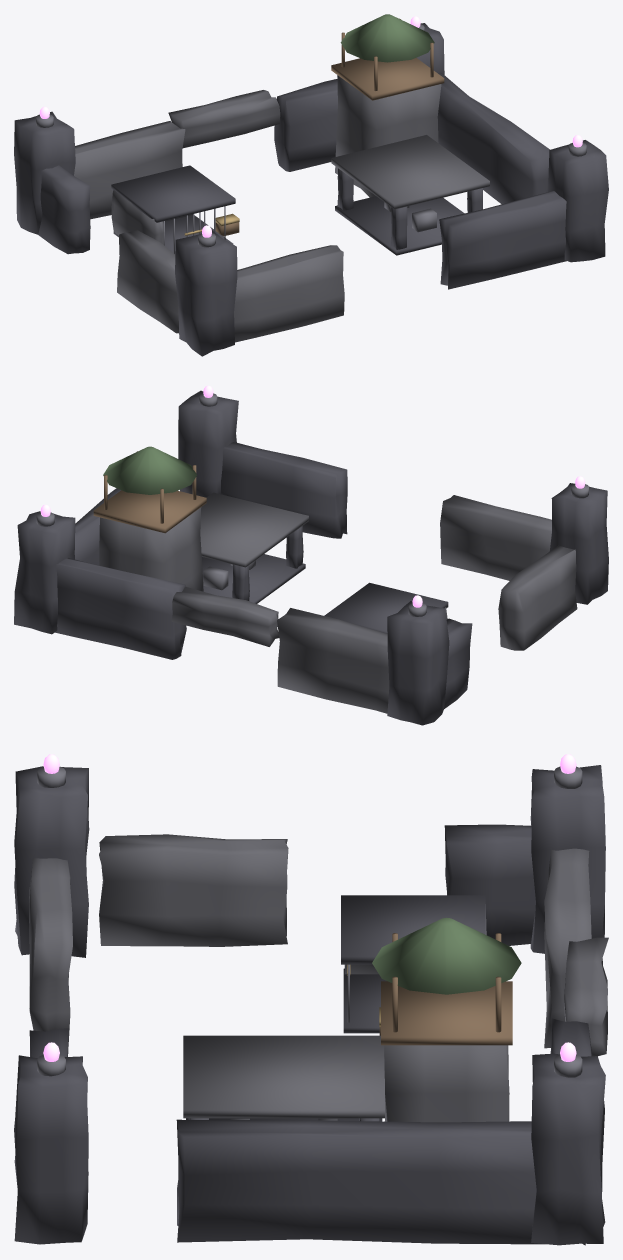
Rendered from stronghold_citadel.glb.
The picture shows the model from 3 angles, top to bottom: view 1: azimuth 30°, elevation 25°; view 2: azimuth 150°, elevation 25°; view 3: azimuth 270°, elevation 25°; orthographic projection. The views are drawn at different scales.
Parts seen in each view (by area): view 1: Wall_SouthRight, Wall_SouthLeft, Wall_EastTop, ArmoryRoof, BastionPillar_2, Wall_NW, WatchtowerBase, BastionPillar_3, Wall_NE, Wall_WestLower, BastionPillar_0, PrisonRoof (+11 smaller); view 2: Wall_NE, Wall_NW, Wall_SouthRight, Wall_SouthLeft, BastionPillar_0, Wall_WestLower, WatchtowerBase, BastionPillar_1, ArmoryRoof, BastionPillar_2, BastionPillar_3, Wall_BackArch (+9 smaller); view 3: Wall_EastTop, Wall_WestLower, ArmoryRoof, BastionPillar_3, BastionPillar_1, WatchtowerBase, BastionPillar_2, Wall_WestUpper, BastionPillar_0, WatchtowerRoof, Wall_SouthLeft, WatchtowerFloor (+6 smaller).
Part boxes in pixels (bbox=[...]): Wall_SouthRight: bbox=[439, 190, 566, 289]; Wall_SouthLeft: bbox=[234, 245, 344, 342]; Wall_EastTop: bbox=[437, 72, 549, 204]; ArmoryRoof: bbox=[331, 135, 489, 209]; BastionPillar_2: bbox=[175, 230, 237, 356]; Wall_NW: bbox=[74, 121, 185, 219]; WatchtowerBase: bbox=[335, 75, 441, 197]; BastionPillar_3: bbox=[548, 140, 608, 262]; Wall_NE: bbox=[274, 78, 337, 171]; Wall_WestLower: bbox=[117, 230, 178, 333]; BastionPillar_0: bbox=[14, 111, 75, 234]; PrisonRoof: bbox=[111, 165, 235, 222]; Wall_NE: bbox=[55, 558, 186, 659]; Wall_NW: bbox=[277, 608, 389, 713]; Wall_SouthRight: bbox=[221, 442, 347, 538]; Wall_SouthLeft: bbox=[440, 495, 551, 580]; BastionPillar_0: bbox=[387, 601, 449, 725]; Wall_WestLower: bbox=[498, 545, 577, 650]; WatchtowerBase: bbox=[99, 507, 203, 591]; BastionPillar_1: bbox=[14, 511, 75, 634]; ArmoryRoof: bbox=[200, 492, 308, 567]; BastionPillar_2: bbox=[549, 483, 608, 604]; BastionPillar_3: bbox=[178, 390, 238, 497]; Wall_BackArch: bbox=[171, 586, 279, 646]; Wall_EastTop: bbox=[176, 1119, 544, 1244]; Wall_WestLower: bbox=[99, 834, 288, 946]; ArmoryRoof: bbox=[183, 1035, 384, 1118]; BastionPillar_3: bbox=[14, 1055, 88, 1244]; BastionPillar_1: bbox=[531, 1053, 605, 1245]; WatchtowerBase: bbox=[383, 1045, 509, 1122]; BastionPillar_2: bbox=[14, 766, 89, 957]; Wall_WestUpper: bbox=[444, 824, 535, 945]; BastionPillar_0: bbox=[530, 765, 605, 953]; WatchtowerRoof: bbox=[372, 917, 521, 994]; Wall_SouthLeft: bbox=[29, 858, 72, 1041]; WatchtowerFloor: bbox=[381, 981, 512, 1045].
Bounding box in the file's own units: 29.32 × 11.2 × 23.04.
